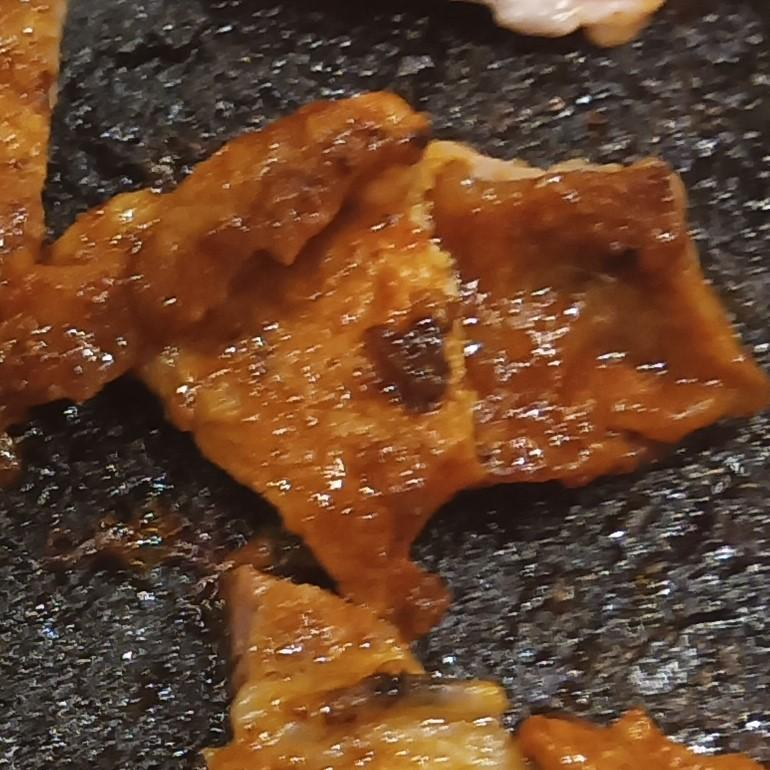Well-Cooked: (0, 0, 769, 642), (218, 565, 752, 769)
